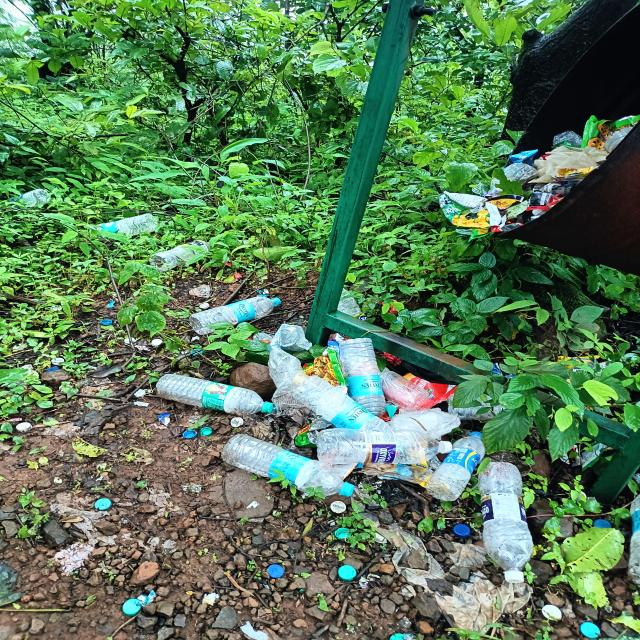garbage: (142, 299, 601, 582), (445, 109, 640, 238)
